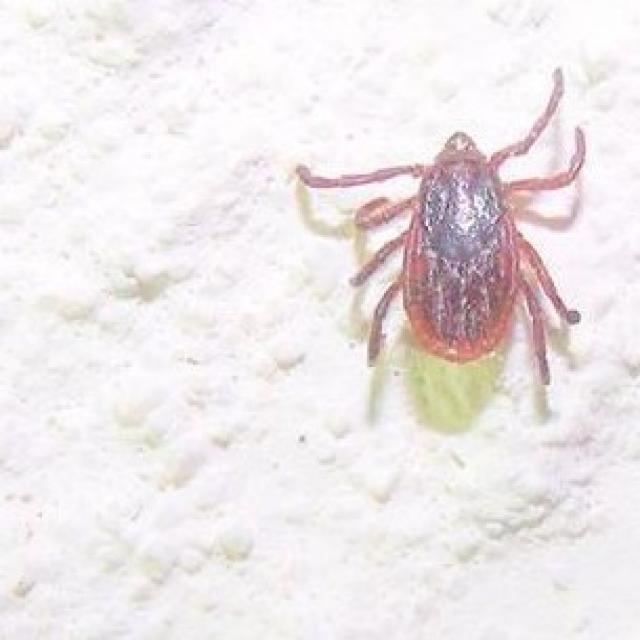Rhipicephalus Sanguineus-F: (296, 69, 585, 414)
